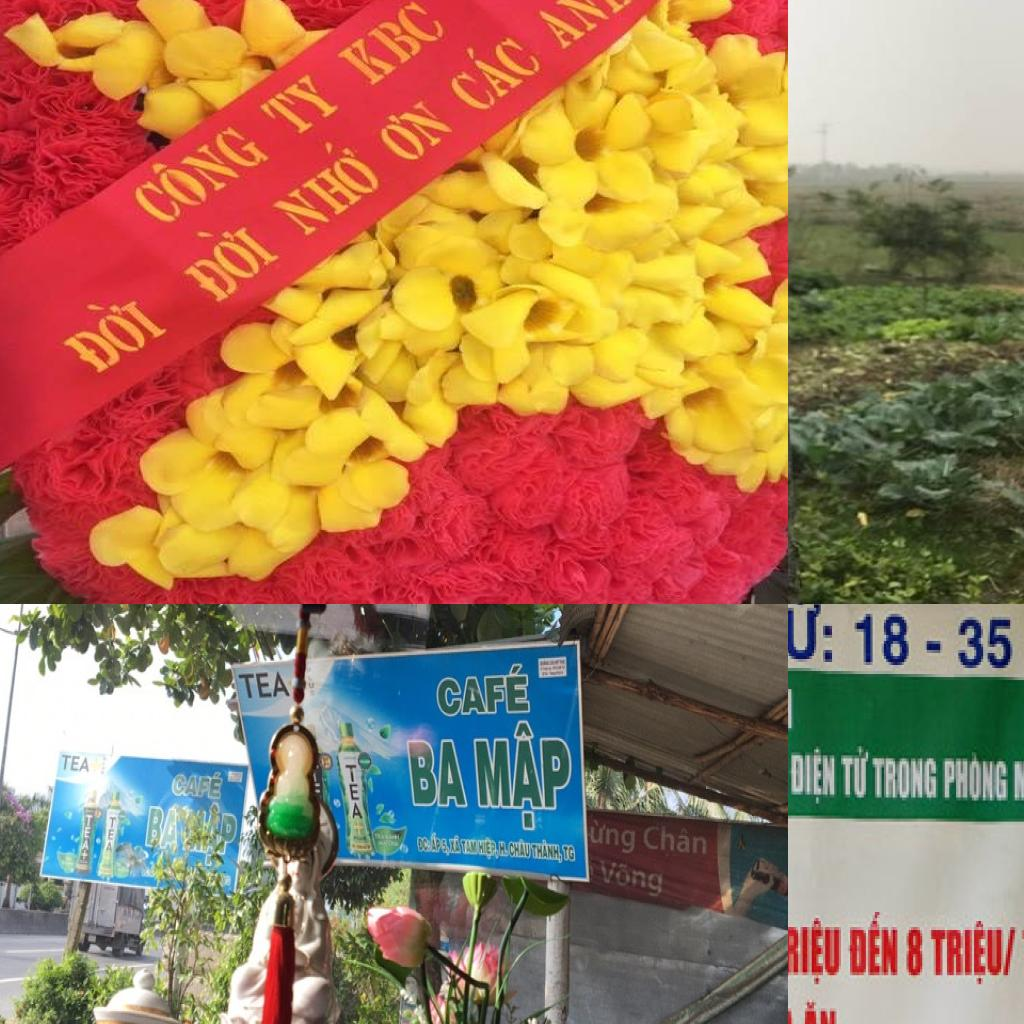text: (120, 117, 278, 229), (264, 133, 388, 241), (43, 282, 171, 378), (472, 719, 575, 833), (167, 210, 284, 306), (330, 0, 450, 89), (440, 23, 553, 117), (369, 96, 459, 168), (931, 912, 1008, 993), (255, 70, 344, 138), (434, 660, 532, 720), (531, 0, 638, 54), (846, 903, 904, 990), (406, 736, 470, 810), (938, 746, 1012, 810), (868, 750, 943, 812), (952, 611, 1017, 680), (850, 605, 913, 674), (788, 911, 843, 984), (788, 743, 841, 812), (598, 854, 666, 903), (788, 604, 834, 665), (642, 823, 709, 859), (841, 737, 875, 807), (590, 818, 639, 858), (169, 768, 224, 803), (143, 803, 178, 856), (237, 668, 293, 701), (344, 763, 368, 839), (795, 990, 843, 1024), (904, 918, 929, 981), (1001, 918, 1019, 987), (217, 812, 239, 858), (531, 839, 564, 864), (79, 815, 95, 863), (1012, 749, 1024, 812), (60, 753, 92, 776), (104, 816, 120, 856), (478, 836, 499, 862), (509, 839, 532, 860), (461, 839, 479, 857), (562, 844, 577, 864), (416, 836, 432, 853), (431, 830, 442, 854), (449, 834, 462, 854), (499, 840, 509, 859), (442, 838, 450, 858), (307, 680, 317, 690)
